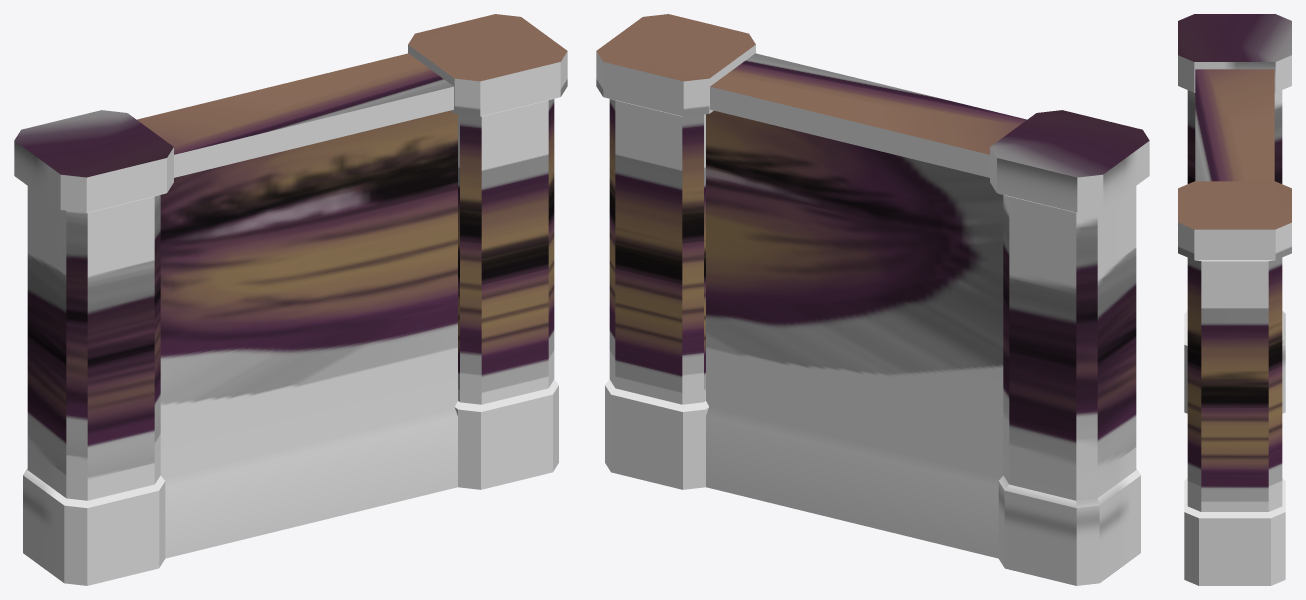
The model's file is wall.fbx.
The picture shows the model from 3 angles, left to right: view 1: azimuth 30°, elevation 25°; view 2: azimuth 150°, elevation 25°; view 3: azimuth 270°, elevation 25°; orthographic projection. The views are drawn at different scales.
Visible parts, largest first — view 1: wall; view 2: wall; view 3: wall.
Boxes of the visible parts, x1,y1,x2,y2 form: wall: (14, 14, 567, 585); wall: (596, 14, 1149, 585); wall: (1178, 14, 1291, 585).
Bounding box in the file's own units: 11.45 × 8.89 × 2.56.
